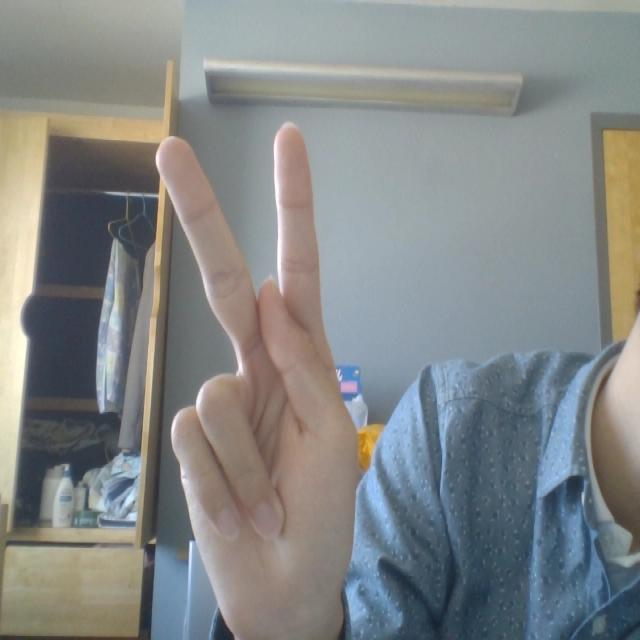K: (118, 73, 371, 640)
